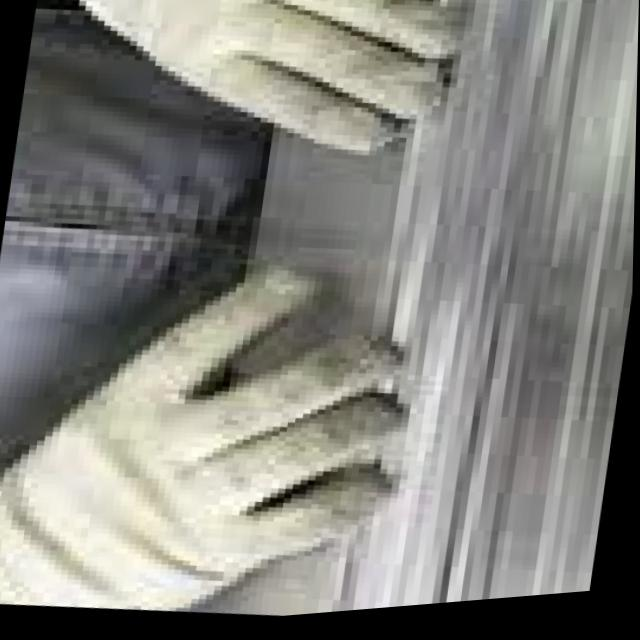metal-plates: (188, 1, 640, 622)
